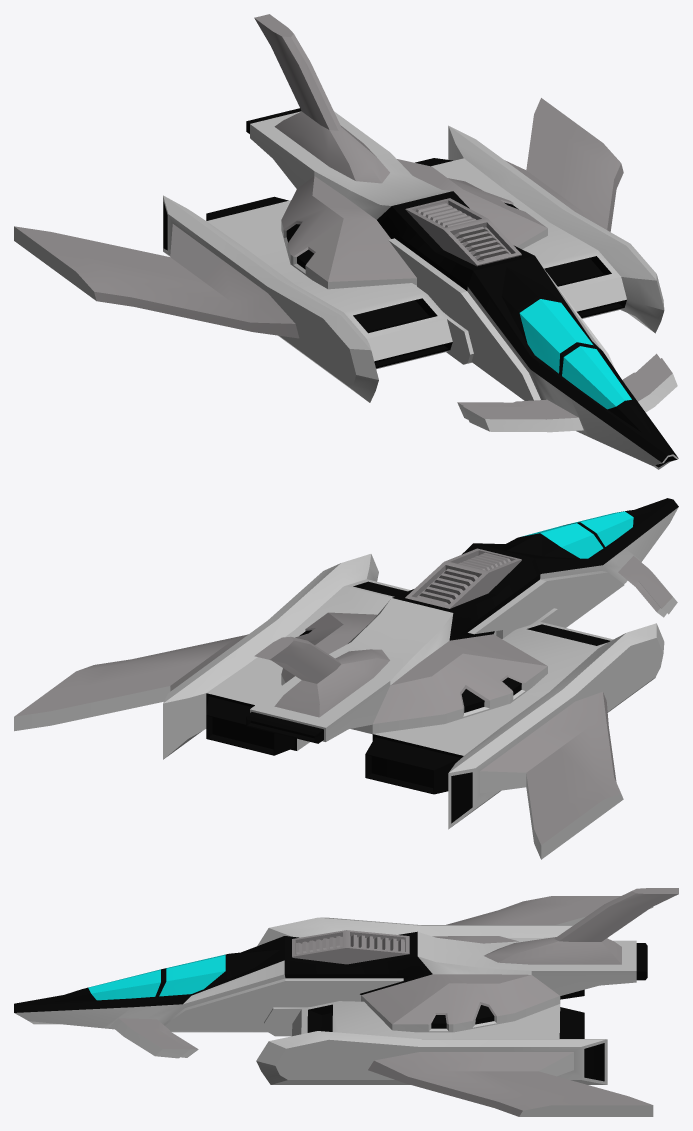
The model's file is Interceptor.fbx.
3 renders of one model, top to bottom at view 1: azimuth 30°, elevation 25°; view 2: azimuth 150°, elevation 25°; view 3: azimuth 270°, elevation 25°, orthographic. The views are drawn at different scales.
Parts seen in each view (by area): view 1: Wing_L, HullMiddle, Wing_R, HullFront, Cockpit; view 2: HullMiddle, Wing_L, Wing_R, HullFront, Cockpit; view 3: HullMiddle, Wing_R, HullFront, Wing_L, Cockpit.
Part boxes in pixels (box(x1,y1,x2,y2)): Wing_L: box(14, 195, 473, 402); HullMiddle: box(246, 14, 547, 325); Wing_R: box(415, 98, 664, 333); HullFront: box(457, 256, 678, 469); Cockpit: box(501, 267, 651, 436); HullMiddle: box(246, 543, 547, 743); Wing_L: box(365, 608, 664, 859); Wing_R: box(14, 554, 410, 759); HullFront: box(474, 498, 678, 627); Cockpit: box(502, 508, 651, 558); HullMiddle: box(284, 888, 678, 1032); Wing_R: box(256, 1001, 653, 1116); HullFront: box(14, 936, 285, 1058); Wing_L: box(257, 896, 653, 999); Cockpit: box(45, 949, 279, 1001).
Bounding box in the file's own units: 1449 × 443 × 1946.
